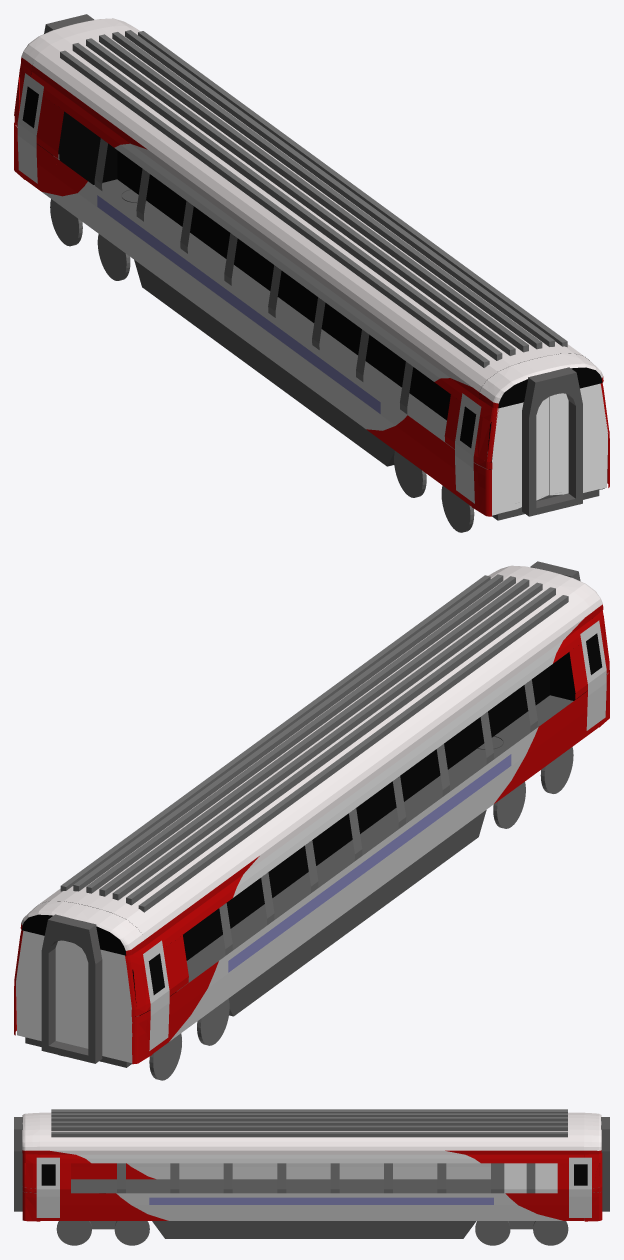
File: br-mk4-fo-vtec.dae
The picture shows the model from 3 angles, top to bottom: view 1: azimuth 30°, elevation 25°; view 2: azimuth 150°, elevation 25°; view 3: azimuth 270°, elevation 25°; orthographic projection. The views are drawn at different scales.
Parts seen in each view (by area): view 1: Suzanne_001, Plane_007, Plane_001, Plane_111, Plane_002, Cube, Cube_010, Cube_008, Tube_003, Cube_009, Cube_011, Cube_004 (+17 smaller); view 2: Suzanne_001, Plane_007, Plane_111, Plane_100, Plane_002, Cube, Cube_010, Cube_008, Tube_002, Cube_009, Cube_011, Cube_004 (+17 smaller); view 3: Suzanne_001, Plane_035, Plane_007, Cube, Plane_002, Cube_002, Cube_003, Plane_036, Plane_038, Plane_037, Cube_004, Cube_008 (+33 smaller).
Boxes of the visible parts, x1=… form: Suzanne_001: x1=32, y1=26, x2=589, y2=398; Plane_007: x1=24, y1=150, x2=471, y2=506; Plane_001: x1=492, y1=383, x2=608, y2=515; Plane_111: x1=117, y1=150, x2=549, y2=494; Plane_002: x1=54, y1=154, x2=562, y2=508; Cube: x1=134, y1=260, x2=394, y2=466; Cube_010: x1=72, y1=43, x2=502, y2=360; Cube_008: x1=99, y1=34, x2=528, y2=352; Tube_003: x1=522, y1=367, x2=582, y2=516; Cube_009: x1=86, y1=38, x2=515, y2=355; Cube_011: x1=60, y1=50, x2=489, y2=367; Cube_004: x1=112, y1=32, x2=542, y2=349; Suzanne_001: x1=40, y1=573, x2=592, y2=945; Plane_007: x1=152, y1=697, x2=599, y2=1053; Plane_111: x1=183, y1=666, x2=549, y2=960; Plane_100: x1=16, y1=930, x2=132, y2=1062; Plane_002: x1=137, y1=695, x2=573, y2=1016; Cube: x1=228, y1=810, x2=486, y2=1016; Cube_010: x1=126, y1=587, x2=555, y2=905; Cube_008: x1=99, y1=579, x2=529, y2=896; Tube_002: x1=41, y1=914, x2=102, y2=1063; Cube_009: x1=112, y1=582, x2=542, y2=900; Cube_011: x1=138, y1=595, x2=568, y2=912; Cube_004: x1=86, y1=576, x2=515, y2=893; Suzanne_001: x1=40, y1=1112, x2=584, y2=1154; Plane_035: x1=40, y1=1197, x2=584, y2=1220; Plane_007: x1=71, y1=1163, x2=490, y2=1179; Cube: x1=152, y1=1221, x2=476, y2=1238; Plane_002: x1=24, y1=1179, x2=600, y2=1220; Cube_002: x1=51, y1=1125, x2=567, y2=1131; Cube_003: x1=51, y1=1132, x2=567, y2=1137; Plane_036: x1=60, y1=1158, x2=568, y2=1163; Plane_038: x1=149, y1=1197, x2=493, y2=1204; Plane_037: x1=40, y1=1154, x2=584, y2=1158; Cube_004: x1=51, y1=1121, x2=567, y2=1125; Cube_008: x1=51, y1=1117, x2=567, y2=1121.
Bounding box in the file's own units: 2.11 × 13.39 × 2.81.
